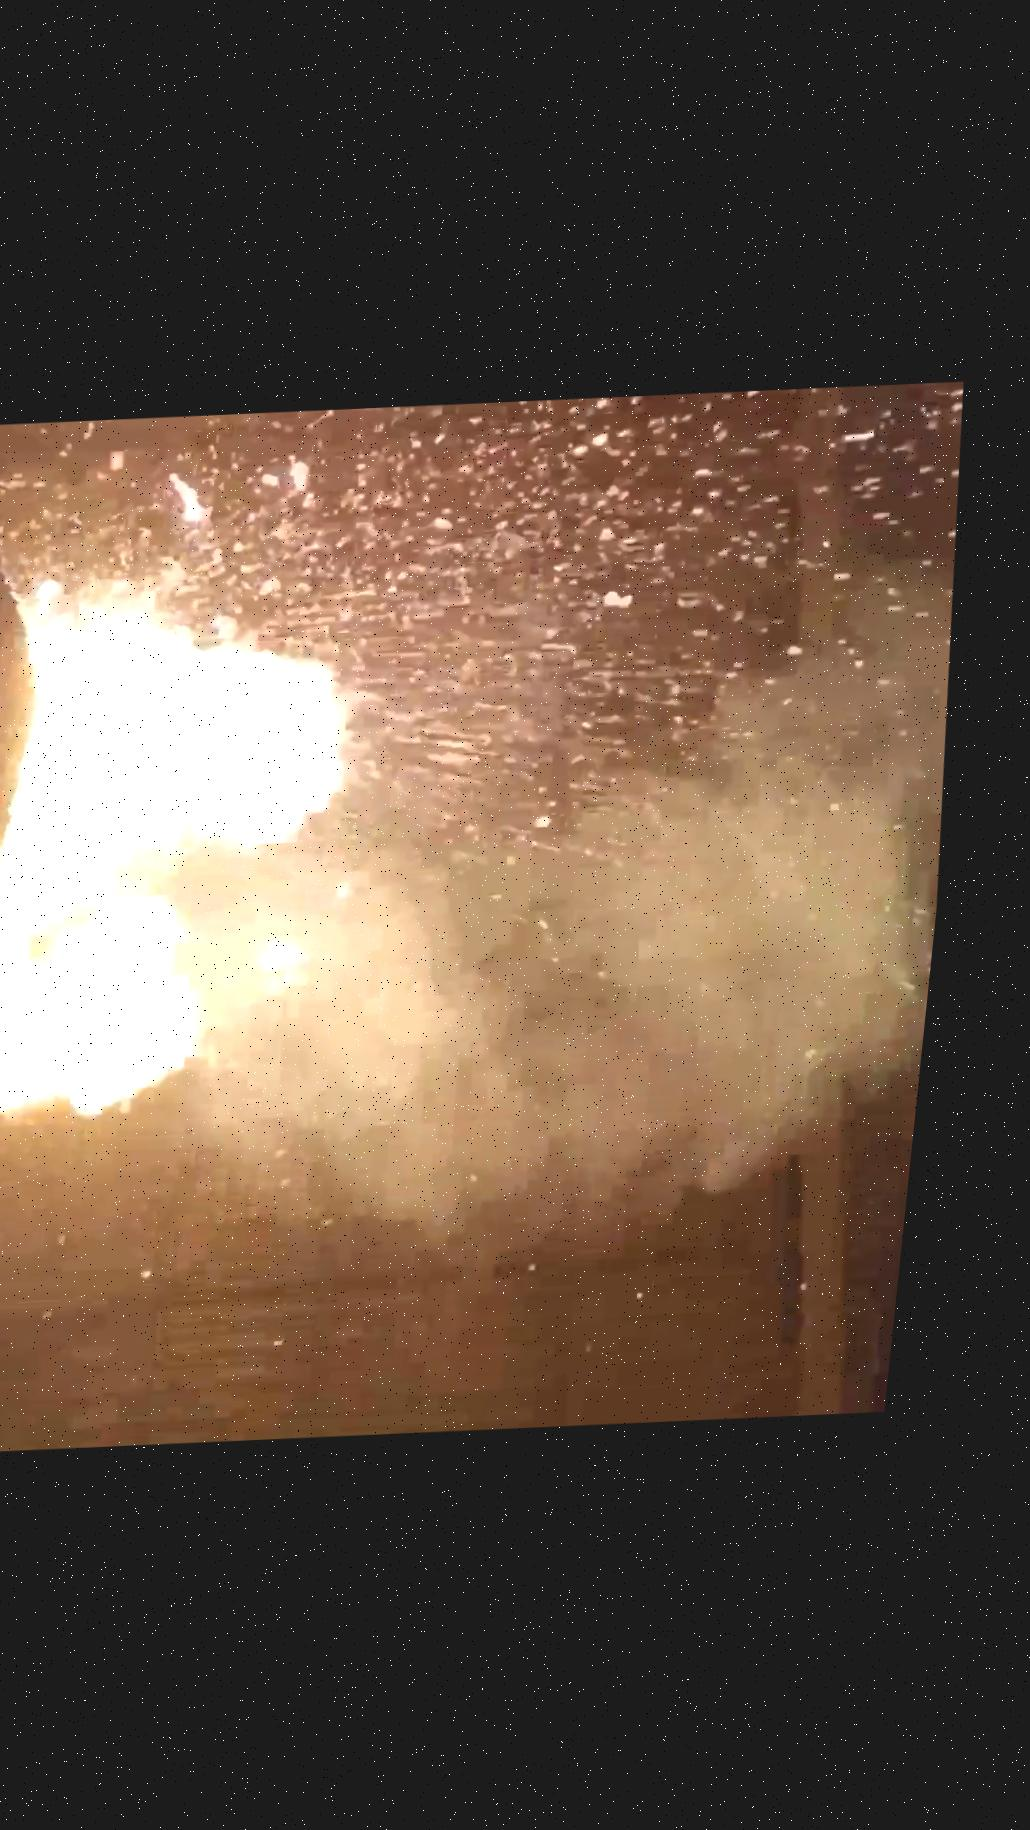fire: (1, 427, 856, 1411)
